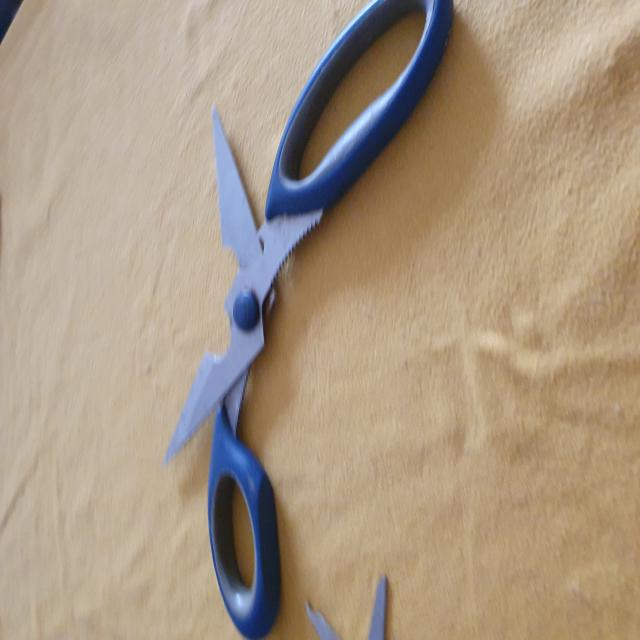scissors: (165, 0, 455, 637)
